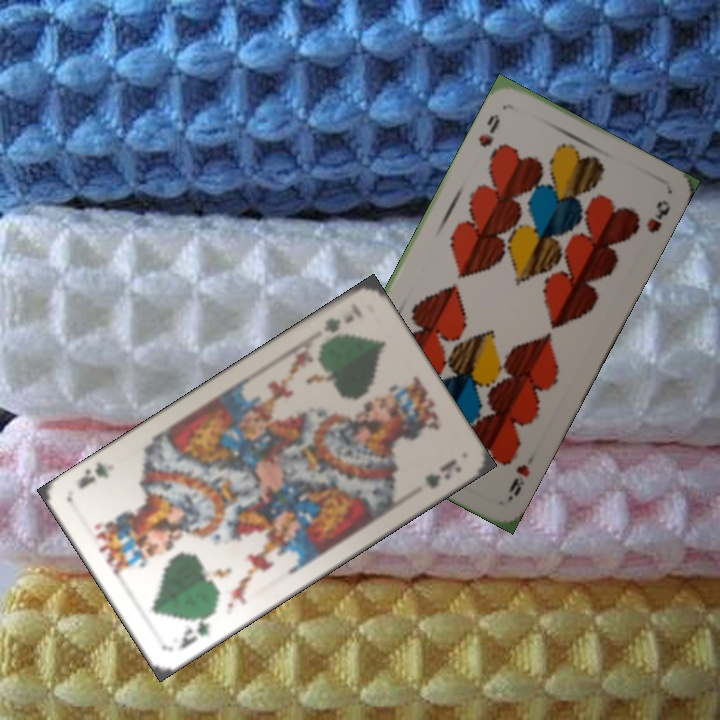GK: (175, 608, 215, 652), (320, 311, 357, 336)
H9: (503, 459, 533, 503), (474, 109, 503, 150)
